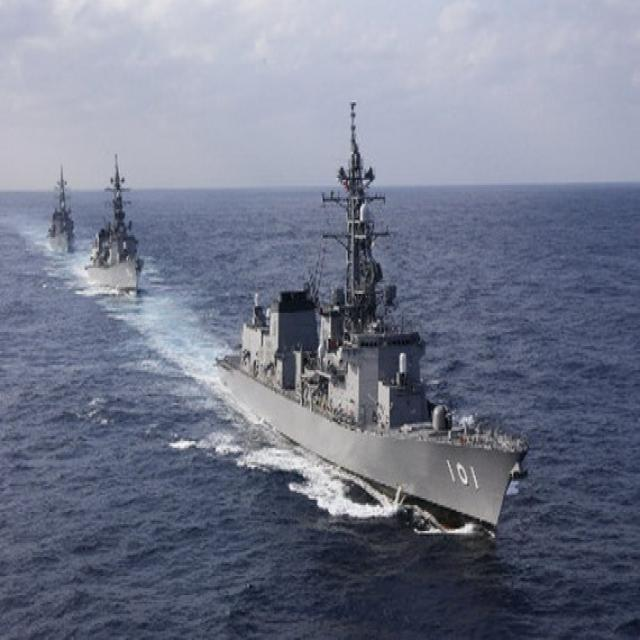navalvessels: (214, 100, 524, 541), (80, 149, 144, 303), (34, 168, 76, 251)
